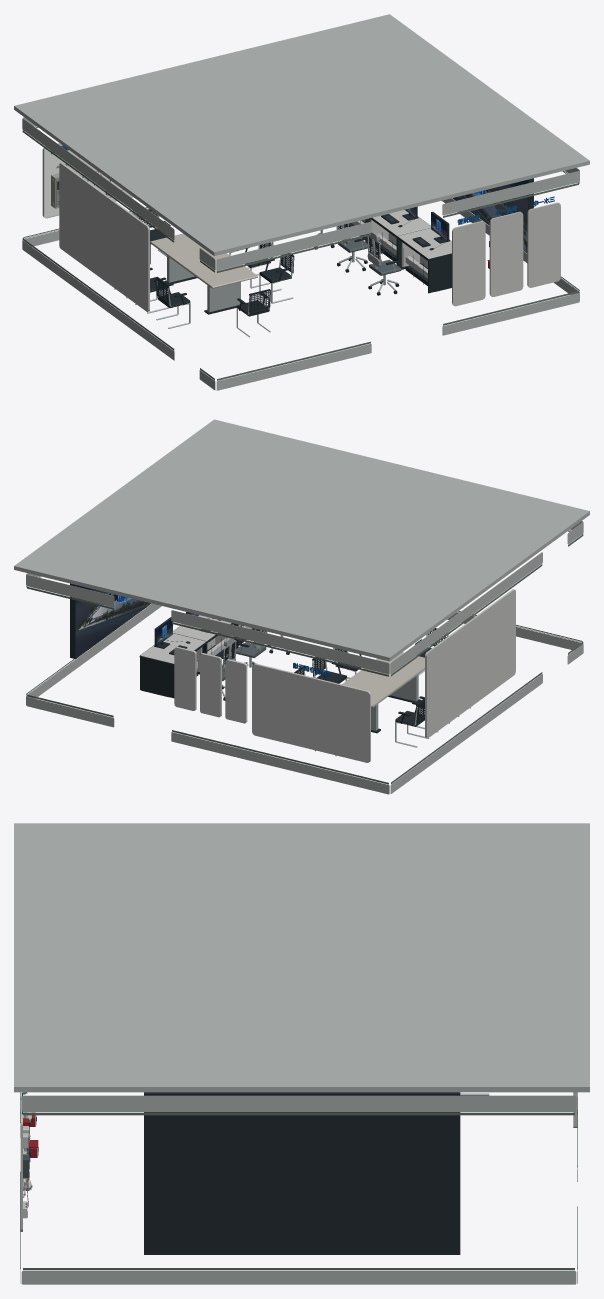
The model's file is fire-room-lod1.glb.
3 views of the same model, one above another, from view 1: azimuth 30°, elevation 25°; view 2: azimuth 150°, elevation 25°; view 3: azimuth 270°, elevation 25° (orthographic). The views are drawn at different scales.
Visible parts, largest first — view 1: V6_FC_PAINTED, V6_FC_DARK, V6_TEX_screen-main, V6_FC_METAL, V6_TEX_board-01; view 2: V6_FC_PAINTED, V6_FC_DARK, V6_TEX_screen-main; view 3: V6_FC_PAINTED, V6_FC_DARK.
Boxes of the visible parts, box(x1,y1,x2,y2) form: V6_FC_PAINTED: box(14, 14, 589, 390); V6_FC_DARK: box(22, 126, 579, 380); V6_TEX_screen-main: box(453, 180, 528, 252); V6_FC_METAL: box(52, 179, 418, 337); V6_TEX_board-01: box(44, 144, 132, 217); V6_FC_PAINTED: box(14, 419, 589, 794); V6_FC_DARK: box(26, 530, 583, 784); V6_TEX_screen-main: box(75, 585, 150, 658); V6_FC_PAINTED: box(14, 823, 589, 1284); V6_FC_DARK: box(20, 1092, 577, 1270).
Size of the model in its own units: 8.28 by 3.08 by 7.65.
20 materials, 13 textured.
